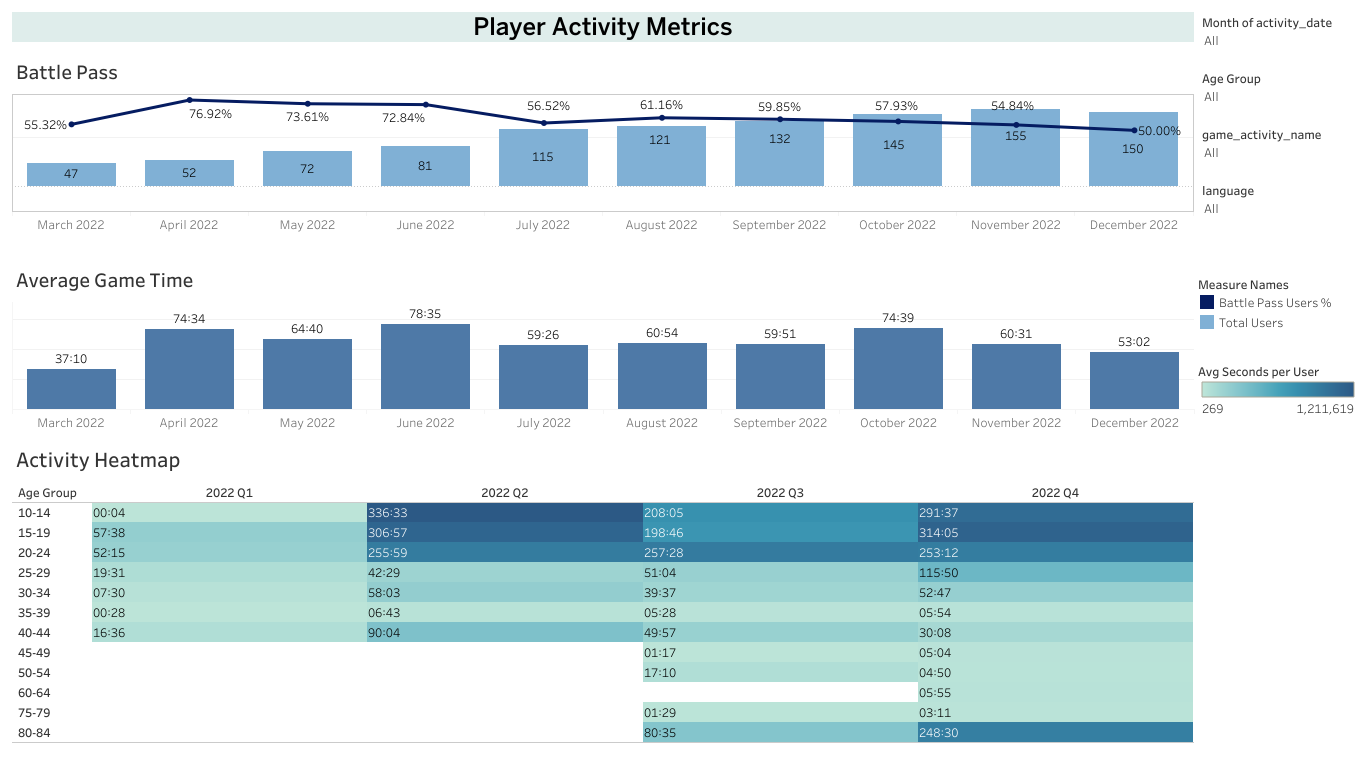

This screenshot's page, from the dashboard's own definition file:
{"tool":"tableau","page":{"name":"Player Activity Metrics","canvas":[1366,768],"ordinal":0},"visuals":[{"type":"text","box":[8,8,1190,38]},{"type":"filter","title":"Average Game Time","param":"[federated.1e8m6md0wxjpou0zudds21d8whlx].[tmn:activity_date:ok]","box":[1198,8,160,56]},{"type":"worksheet","title":"Battle Pass","mark":"Bar","rows":["Calculation_1305428945195008","Calculation_1305428946825218"],"cols":["activity_date"],"box":[8,48,1190,208]},{"type":"filter","title":"Activity Heatmap","param":"[federated.1e8m6md0wxjpou0zudds21d8whlx].[none:Calculation_1305428956647431:nk]","box":[1198,64,160,56]},{"type":"filter","title":"Average Game Time","param":"[federated.1e8m6md0wxjpou0zudds21d8whlx].[none:game_activity_name:nk]","box":[1198,120,160,56]},{"type":"filter","title":"Average Game Time","param":"[federated.1e8m6md0wxjpou0zudds21d8whlx].[none:language:nk]","box":[1198,176,160,56]},{"type":"worksheet","title":"Average Game Time","mark":"Bar","rows":["Calculation_1305428952657923"],"cols":["activity_date"],"box":[8,256,1190,179]},{"type":"legend","title":"Battle Pass","param":"[federated.1e8m6md0wxjpou0zudds21d8whlx].[:Measure Names]","box":[1197,273,168,64]},{"type":"legend","title":"Activity Heatmap","param":"[federated.1e8m6md0wxjpou0zudds21d8whlx].[usr:Calculation_1305428952657923:qk]","box":[1198,358,161,77]},{"type":"worksheet","title":"Activity Heatmap","mark":"Square","rows":["Calculation_1305428956647431"],"cols":["activity_date"],"box":[8,435,1190,325]}]}

Visuals, with their boxes in screenshot pixels (x1, y1, x2, y2), scaled from the page's 1366x768 canvas onto the 1365x767 screenshot:
text: 8,8,1197,46
"Average Game Time" filter: 1197,8,1357,64
"Battle Pass" worksheet (Bar marks): 8,48,1197,256
"Activity Heatmap" filter: 1197,64,1357,120
"Average Game Time" filter: 1197,120,1357,176
"Average Game Time" filter: 1197,176,1357,232
"Average Game Time" worksheet (Bar marks): 8,256,1197,434
"Battle Pass" legend: 1196,273,1364,337
"Activity Heatmap" legend: 1197,358,1358,434
"Activity Heatmap" worksheet (Square marks): 8,434,1197,759
